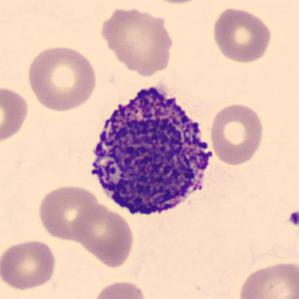Basophil: (80, 76, 222, 225)
Platelets: (285, 208, 299, 229)
RBC: (95, 4, 177, 76), (24, 43, 100, 113), (70, 201, 136, 269), (207, 100, 266, 168), (210, 5, 274, 65), (36, 183, 100, 241), (0, 237, 58, 291), (235, 258, 298, 299), (0, 83, 31, 145), (90, 278, 148, 299), (140, 0, 209, 6)
